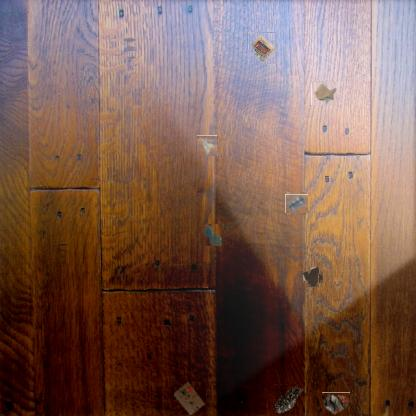dirty: (174, 381, 206, 415), (273, 384, 303, 414), (249, 32, 276, 64), (311, 81, 338, 105), (322, 392, 350, 415), (286, 193, 307, 214), (197, 136, 218, 156)
liquid: (202, 224, 224, 246), (305, 269, 321, 285)
